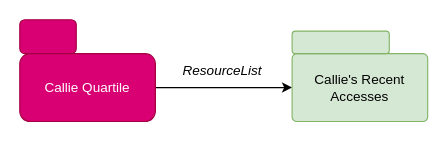
Some shapes in this 447 by 141 pixel diagram are drawn without their labels. The centre of each missing label's shape, as x and y in pixels:
Person: the point at 47,36
RecentAccess: the point at 340,42
